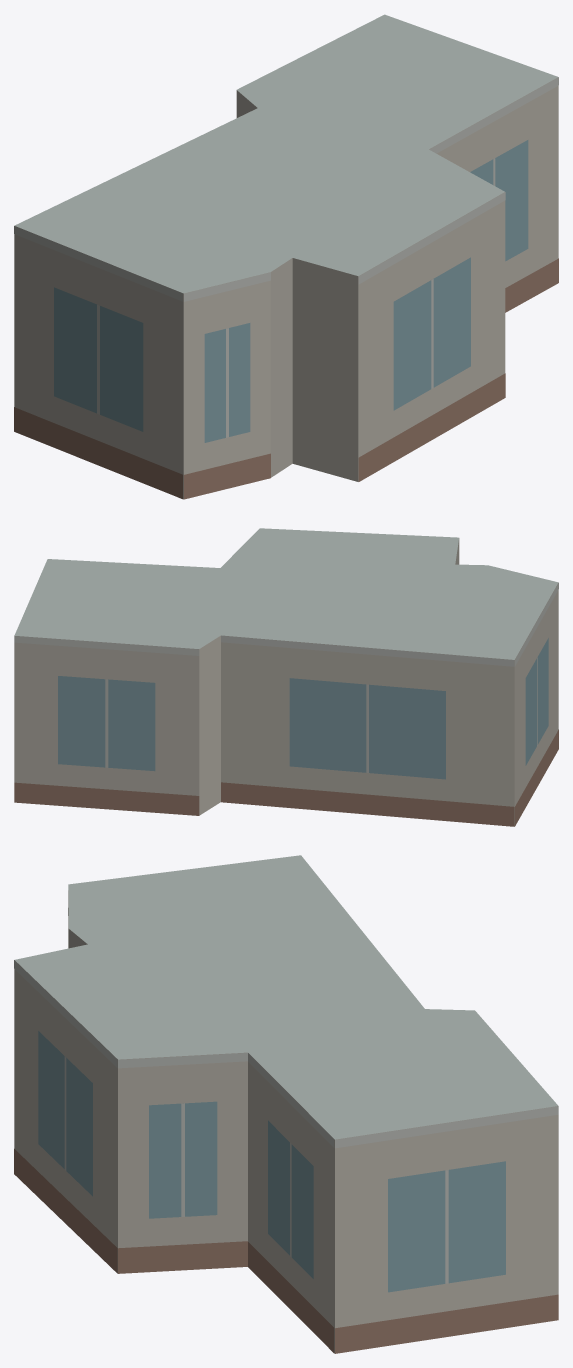
Rendered from survey-upis-32467207.glb.
3 views of the same model, one above another, from view 1: azimuth 30°, elevation 25°; view 2: azimuth 150°, elevation 25°; view 3: azimuth 270°, elevation 25° (orthographic). The views are drawn at different scales.
Parts seen in each view (by area): view 1: survey-upis-32467207.tmp; view 2: survey-upis-32467207.tmp; view 3: survey-upis-32467207.tmp.
Boxes of the visible parts, x1=… form: survey-upis-32467207.tmp: x1=14, y1=14, x2=558, y2=499; survey-upis-32467207.tmp: x1=14, y1=528, x2=558, y2=826; survey-upis-32467207.tmp: x1=14, y1=855, x2=558, y2=1353.
Bounding box in the file's own units: 8.7 × 3.05 × 7.04.
